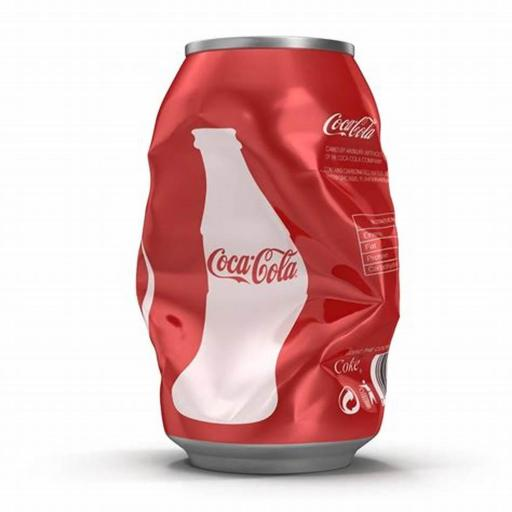can: (136, 34, 402, 476)
